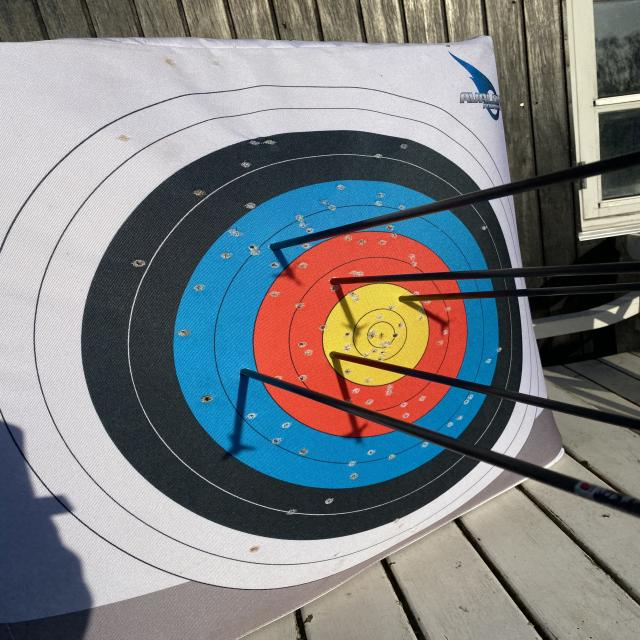Arrow_Blue: (215, 343, 292, 408), (244, 218, 324, 274)
Arrow_Red: (316, 261, 379, 299)
Arrow_Yellow: (314, 337, 372, 377), (397, 278, 440, 316)
